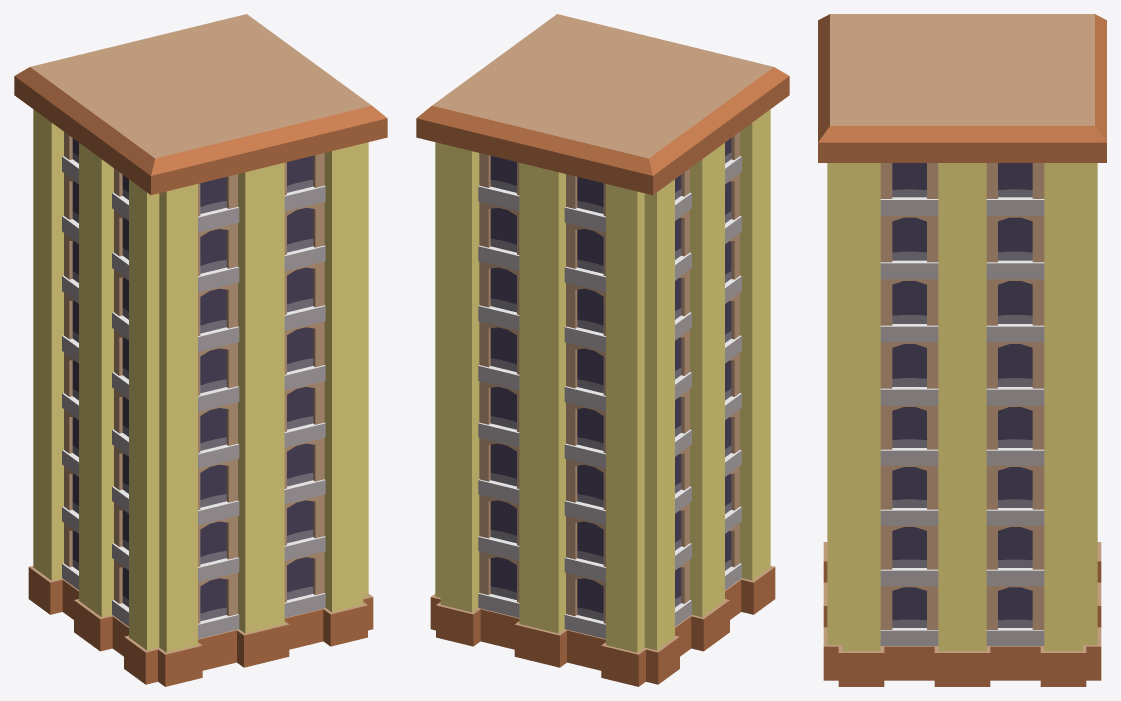
The model's file is BUILDING4_YELLOW.fbx.
3 views of the same model, side by side, from view 1: azimuth 30°, elevation 25°; view 2: azimuth 150°, elevation 25°; view 3: azimuth 270°, elevation 25° (orthographic). The views are drawn at different scales.
Visible parts, largest first — view 1: pCube3, pCube4; view 2: pCube3, pCube4; view 3: pCube3, pCube4.
Boxes of the visible parts, box(x1,y1,x2,y2) form: pCube3: box(28, 109, 373, 686); pCube4: box(14, 14, 387, 195); pCube3: box(430, 109, 775, 686); pCube4: box(416, 14, 789, 195); pCube3: box(823, 163, 1101, 686); pCube4: box(818, 14, 1106, 162).
Bounding box in the file's own units: 7.05 × 15.03 × 7.05.
